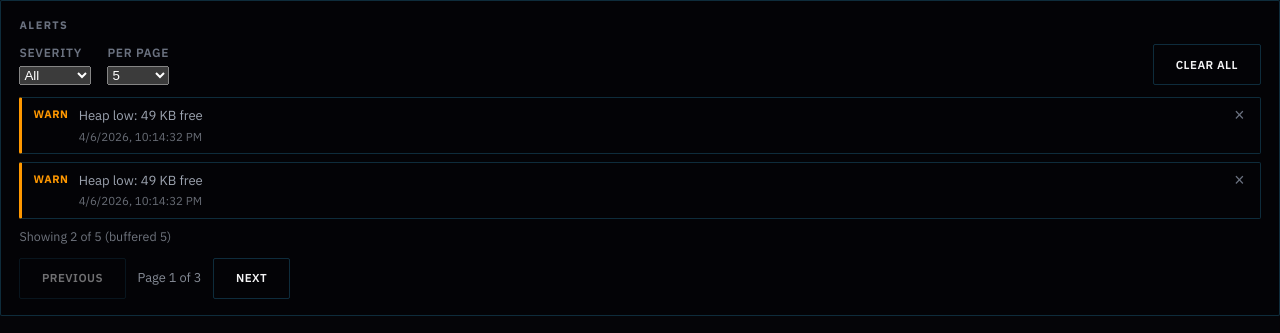
Scenario: AlertFeedPanel › paginates with next and previous
Check: the text "Page 1 of 3" is shown, box [138,268,201,288]
Check: the button "Previous" is disabled, box [19,258,126,299]
Click the button "Next" at (252, 278), box [213,258,290,299]
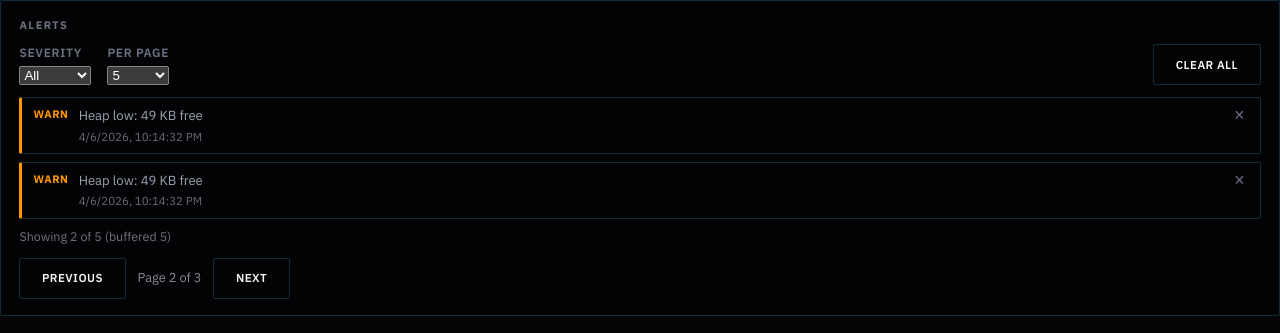
Check: the text "Page 2 of 3" is shown, box [138,268,201,288]
Check: the button "Previous" is enabled
Click the button "Previous" at (72, 278), box [19,258,126,299]
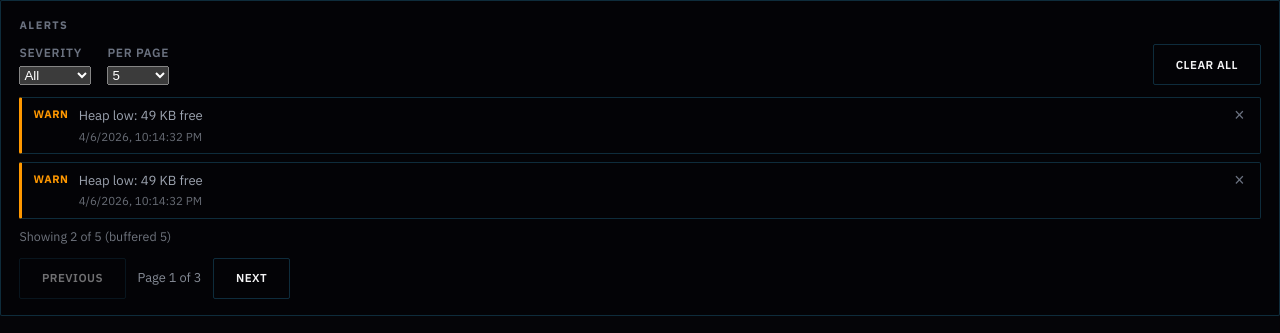
Check: the text "Page 1 of 3" is shown, box [138,268,201,288]
